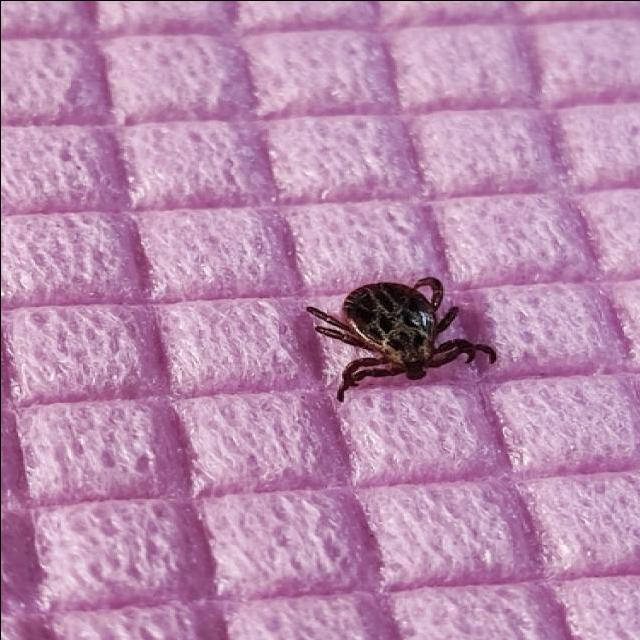Dermacentor Reticulatus-M: (307, 278, 495, 399)
